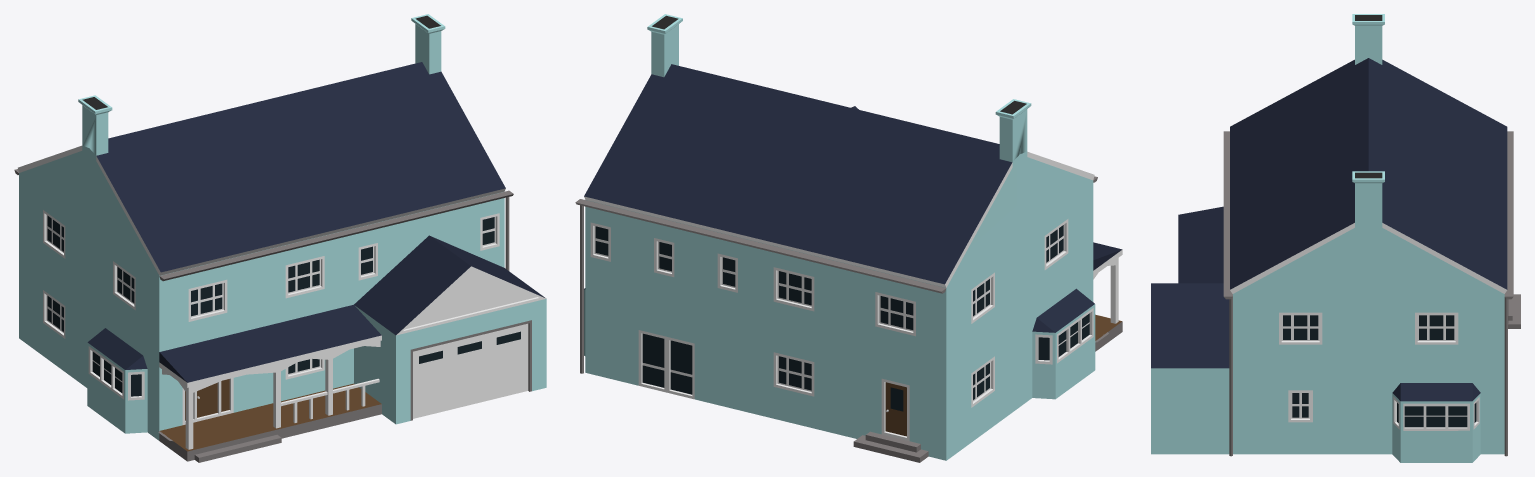
The model's file is building-house-family-large.glb.
3 views of the same model, side by side, from view 1: azimuth 30°, elevation 25°; view 2: azimuth 150°, elevation 25°; view 3: azimuth 270°, elevation 25° (orthographic). The views are drawn at different scales.
Visible parts, largest first — view 1: building-house-family-large; view 2: building-house-family-large; view 3: building-house-family-large.
Boxes of the visible parts, x1,y1,x2,y2 form: building-house-family-large: (14,14,546,462); building-house-family-large: (575,14,1122,462); building-house-family-large: (1151,14,1520,462).
Size of the model in its own units: 15.68 by 11.2 by 13.6.
